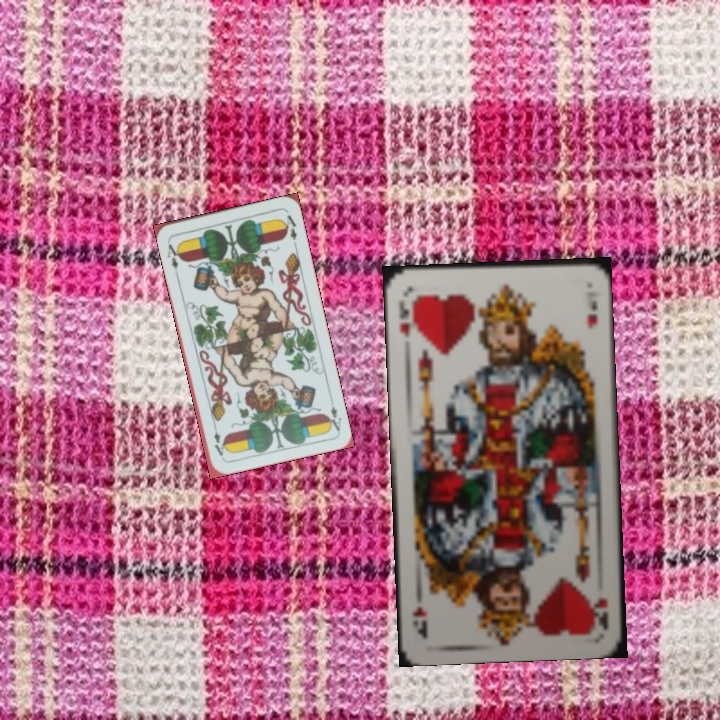EA: (323, 393, 344, 434), (163, 237, 184, 272)
HK: (395, 296, 414, 341), (590, 594, 611, 632)
